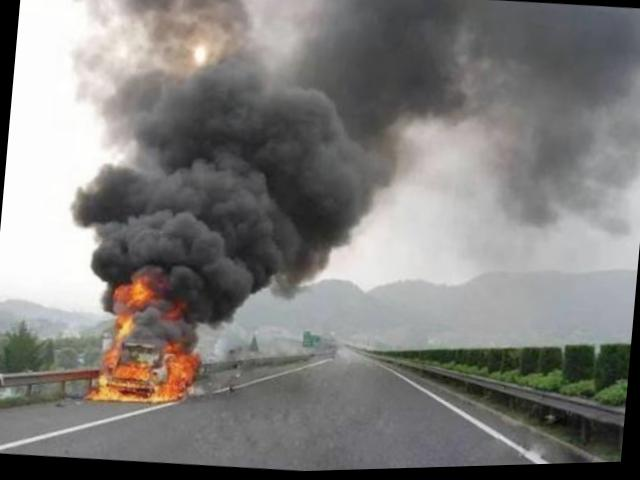fire: (88, 262, 205, 408)
